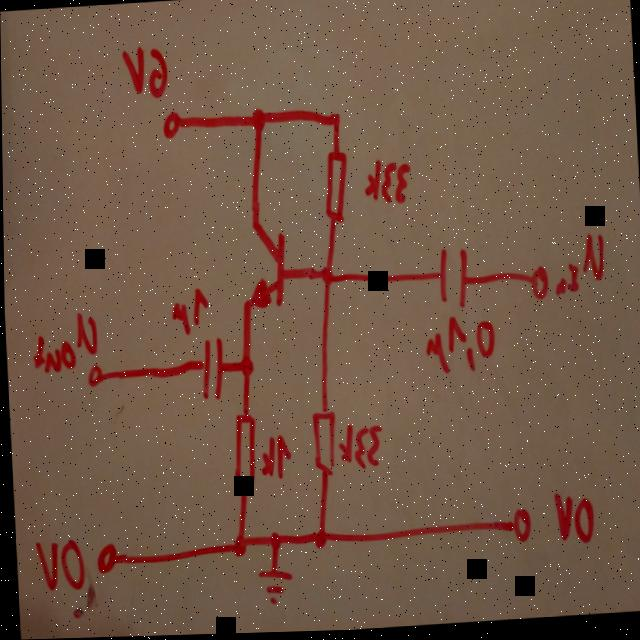capacitor: (426, 241, 479, 316), (189, 332, 233, 408)
ground: (253, 564, 296, 612)
junction: (312, 262, 341, 293), (227, 528, 250, 562), (246, 104, 270, 136), (309, 524, 333, 554), (235, 351, 256, 381), (325, 108, 347, 132), (265, 528, 285, 553)
resistor: (316, 143, 354, 228), (224, 405, 260, 494), (306, 402, 340, 483)
terminal: (504, 505, 535, 551), (91, 536, 121, 580), (524, 262, 553, 306), (158, 105, 186, 146), (83, 359, 107, 392)
text: (421, 312, 500, 381), (29, 302, 103, 374), (550, 231, 610, 303), (117, 35, 176, 107), (358, 152, 416, 216), (32, 532, 88, 598), (335, 417, 387, 480), (549, 489, 598, 553), (164, 279, 213, 340), (257, 428, 297, 486)
transistor: (230, 209, 297, 323)
